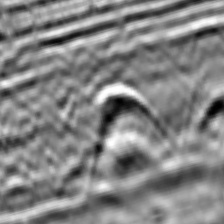cavities: (87, 76, 177, 176)
